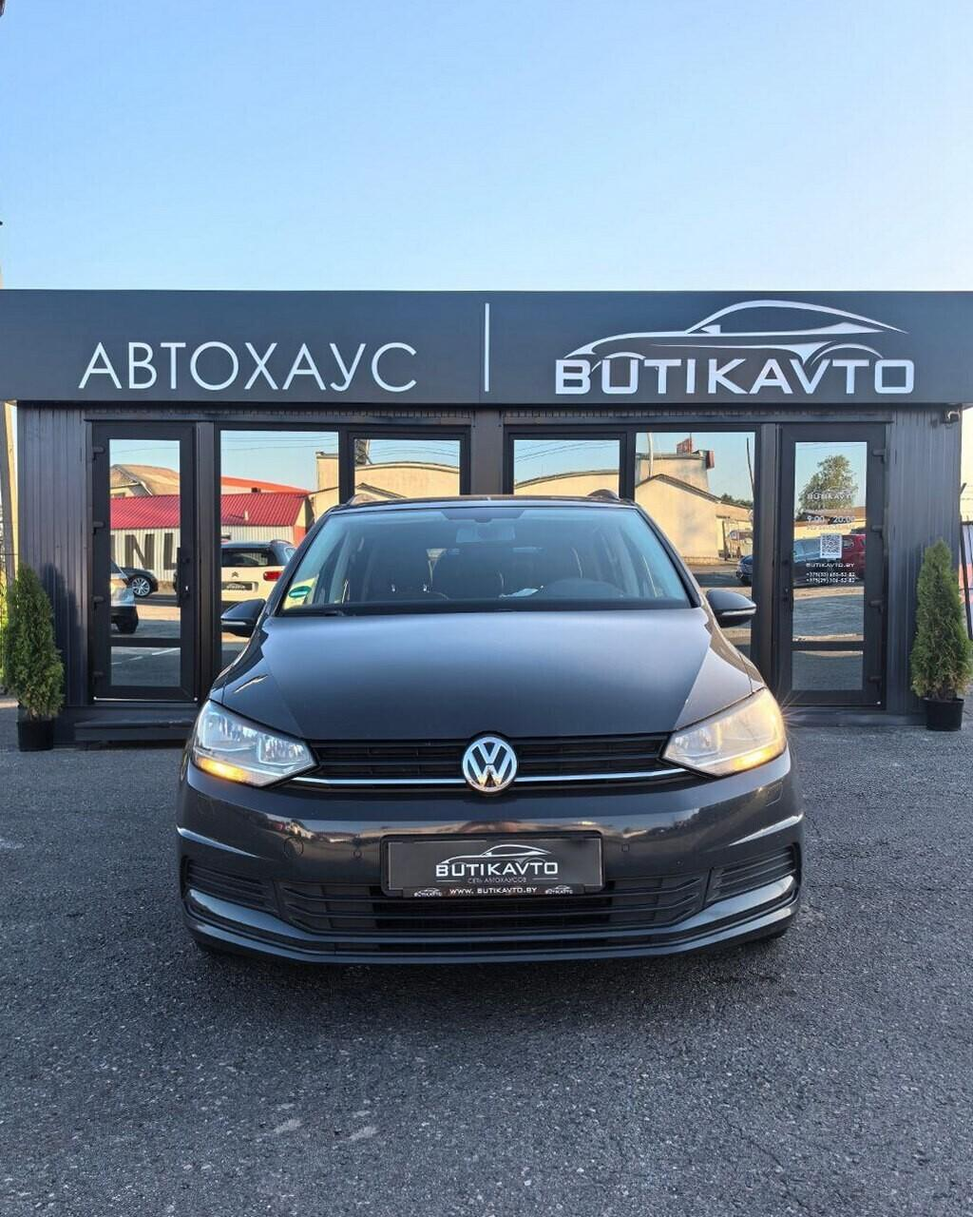Touran_2015: (169, 494, 812, 986)
